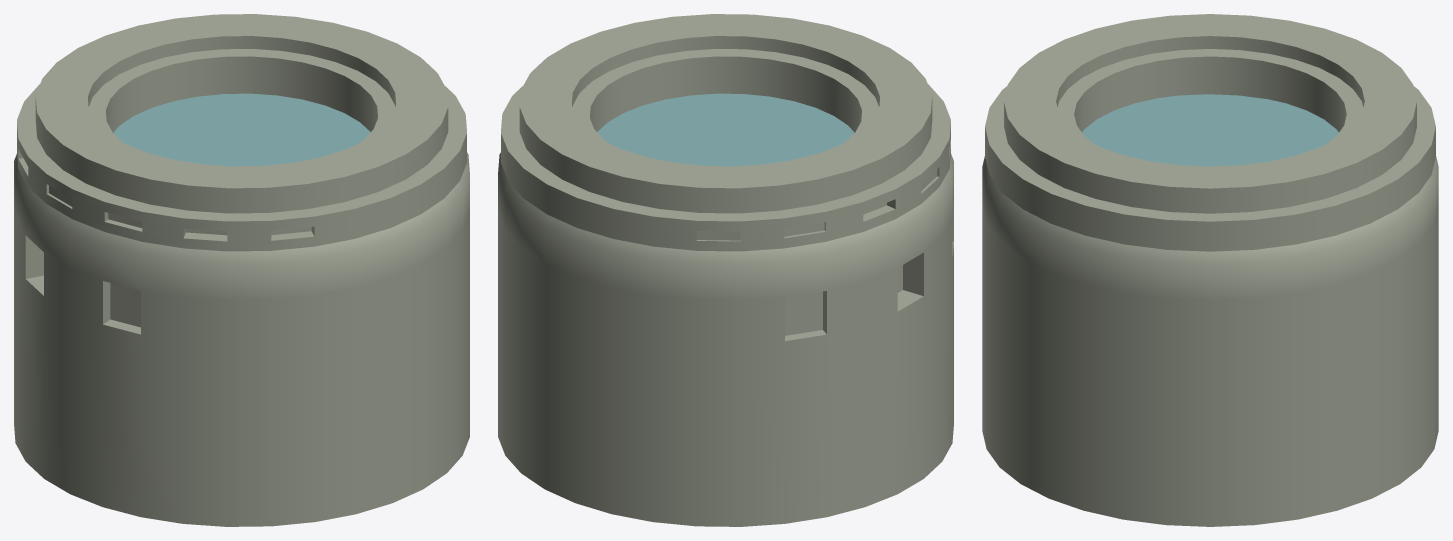
Rendered from 無蓋化學桶.fbx.
3 views of the same model, side by side, from view 1: azimuth 30°, elevation 25°; view 2: azimuth 150°, elevation 25°; view 3: azimuth 270°, elevation 25° (orthographic).
Visible parts, largest first — view 1: b.006, water; view 2: b.006, water; view 3: b.006, water.
Boxes of the visible parts, x1,y1,x2,y2 form: b.006: (14,14,469,526); water: (113,93,370,166); b.006: (498,14,953,526); water: (597,93,854,166); b.006: (982,14,1438,526); water: (1082,94,1338,166).
Size of the model in its own units: 50 by 39.78 by 50.
